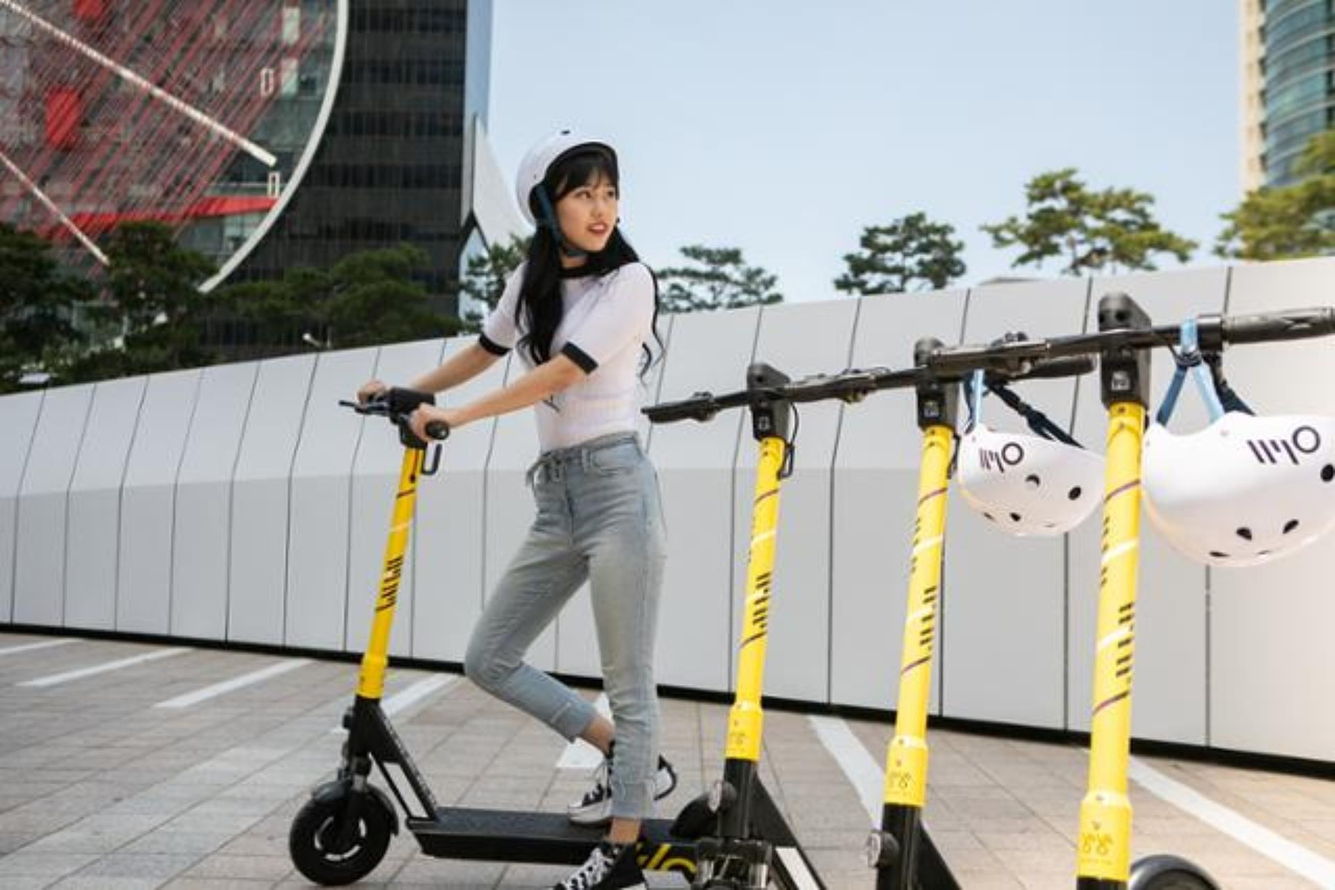helmet: (504, 109, 662, 273)
human: (365, 118, 663, 890)
kickboard: (291, 776, 743, 890)
